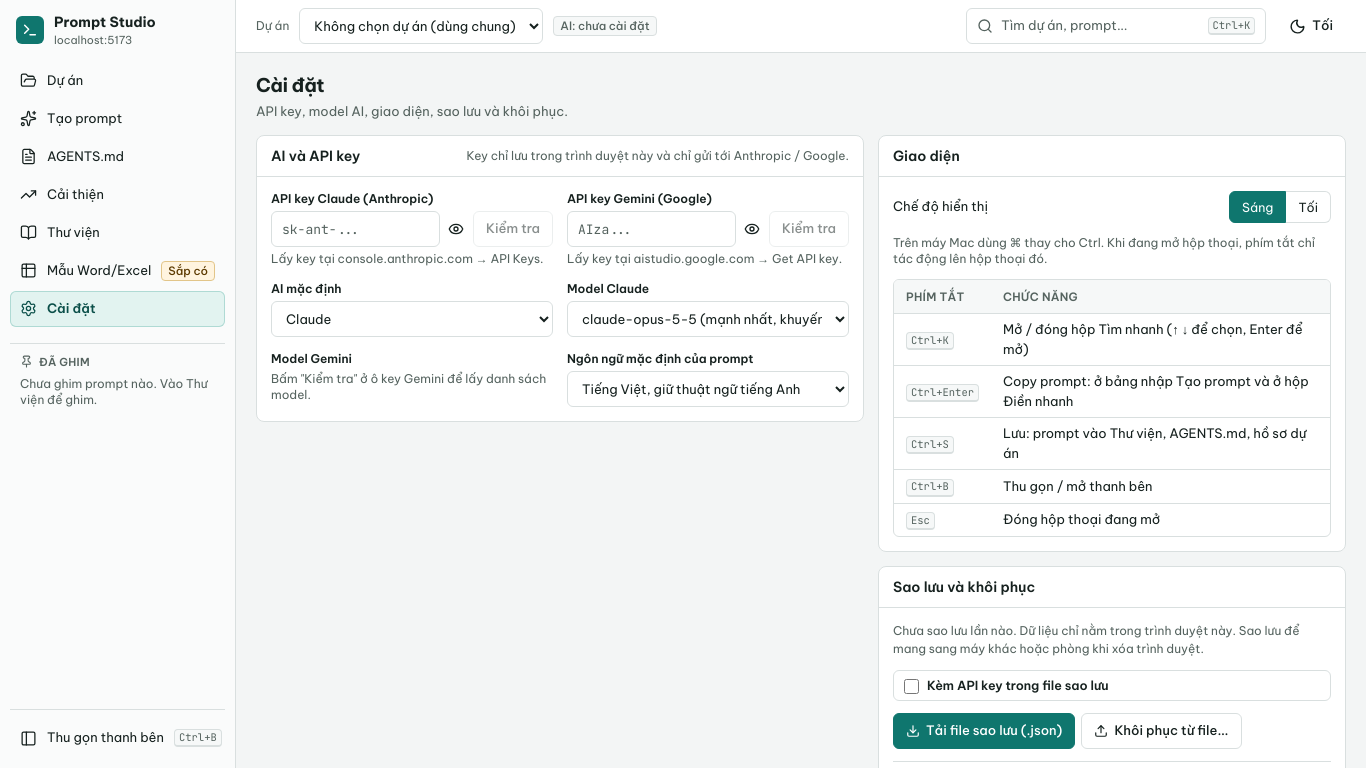
Test: Cài đặt › nhập key Claude, bấm Kiểm tra thấy hợp lệ; header hiện AI đang dùng
Expected: the text "AI: chưa cài đặt" is shown, [553,16,657,36]
Type "sk-ant-abc" into the password field labelled "API key Claude (Anthropic)" at (355, 229), box [271,211,440,247]
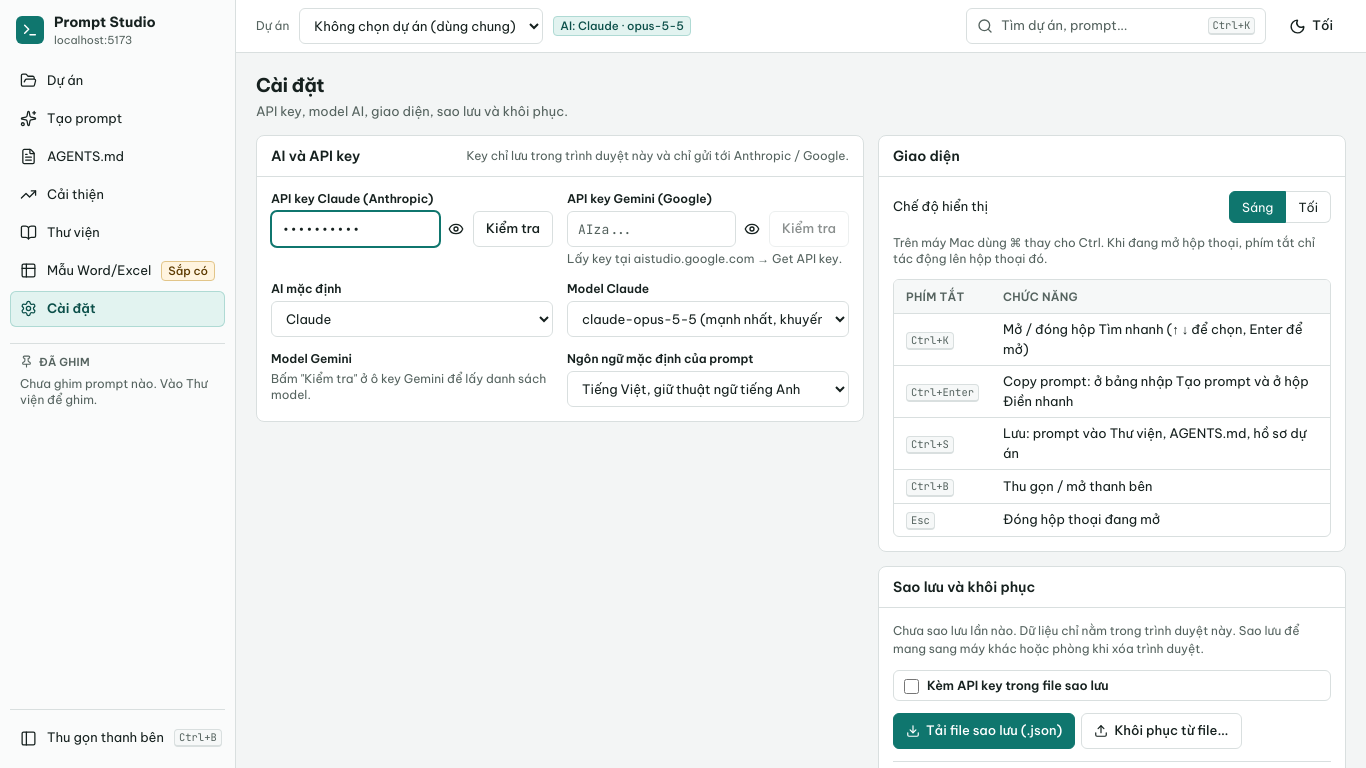
Click the button "Kiểm tra" below "API key Claude (Anthropic)" at (513, 229), box [473,211,553,247]
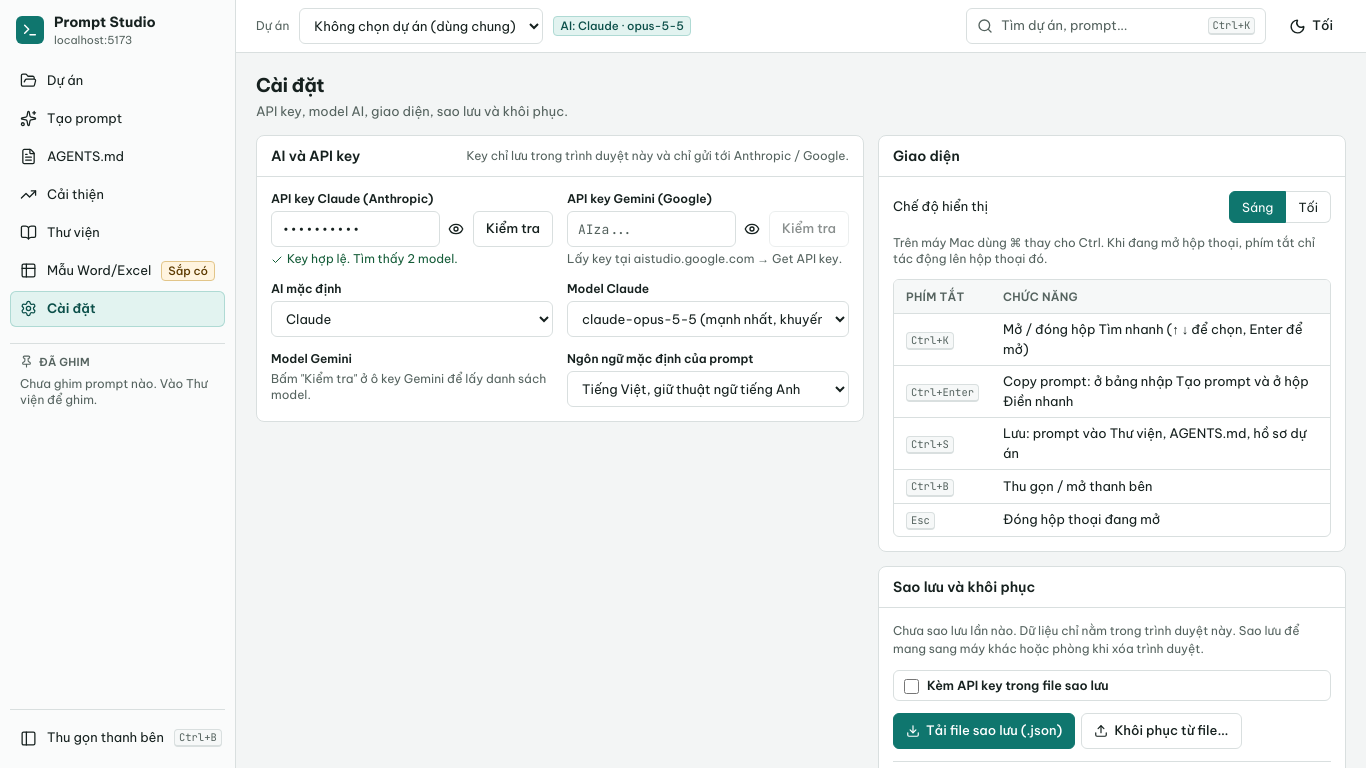
Expected: the text "AI: Claude · opus-5-5" is shown, [553,16,691,36]
Expected: the text "Key hợp lệ. Tìm thấy 2 model." is shown, [271,251,458,266]
